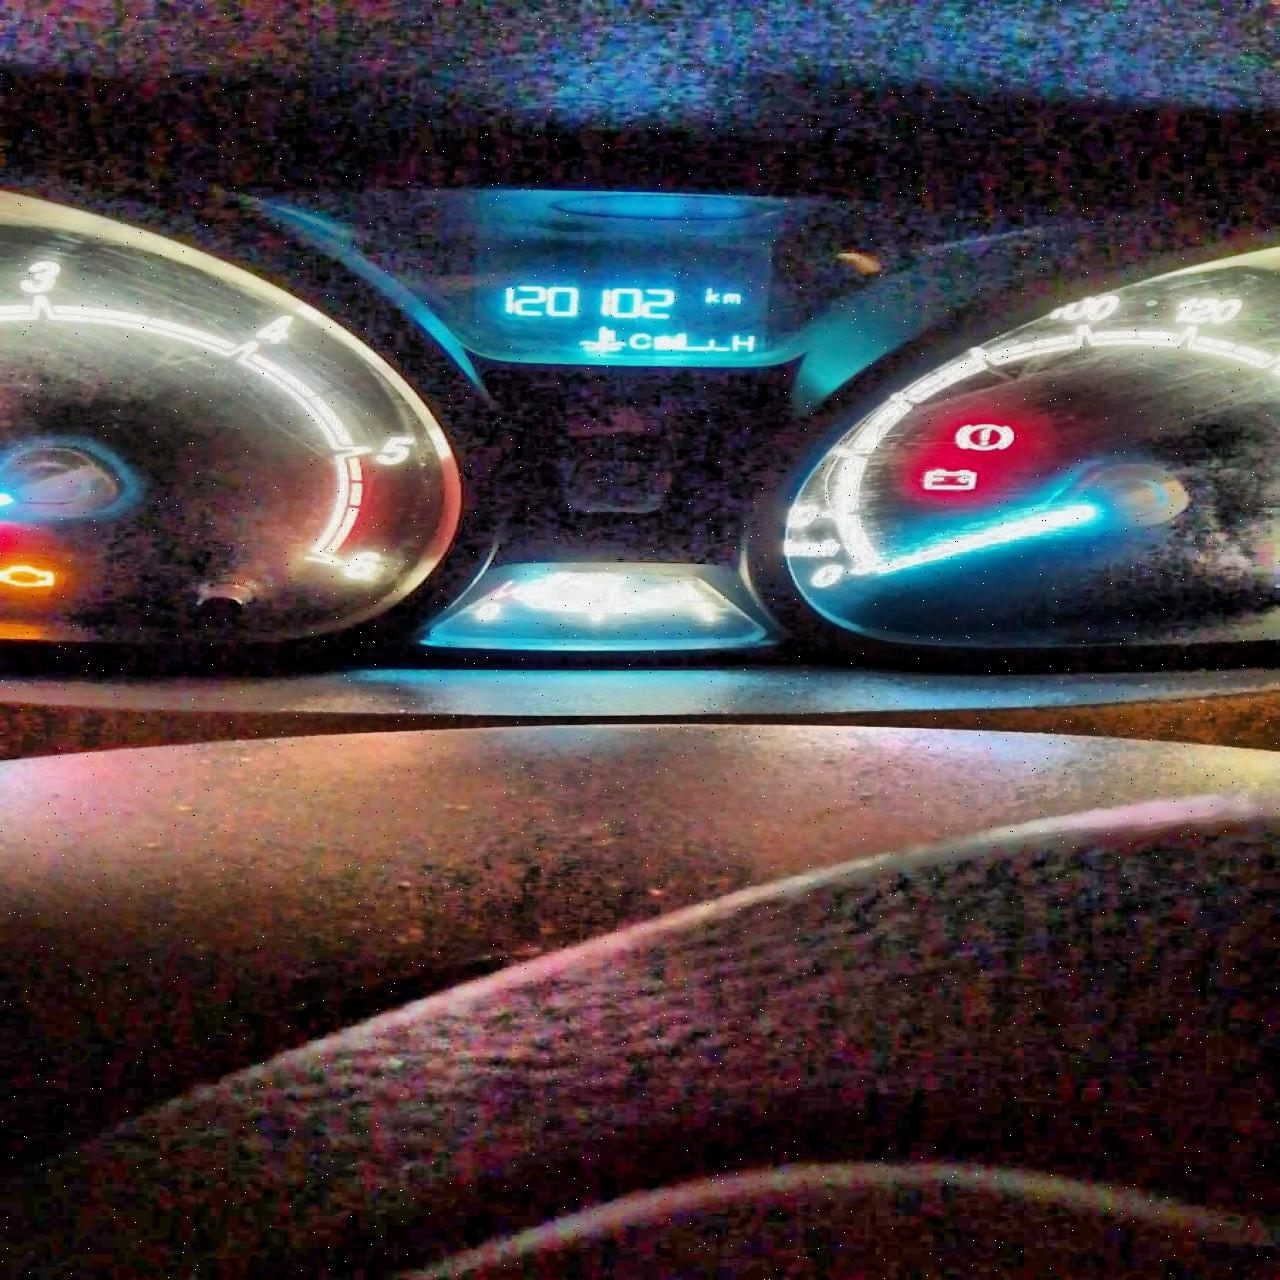0: (545, 286, 579, 316), (611, 286, 641, 319)
1: (502, 285, 513, 314), (600, 287, 608, 319)
2: (642, 287, 674, 319), (515, 282, 545, 315)
X: (730, 333, 755, 352), (627, 333, 652, 349), (704, 286, 720, 302), (721, 292, 740, 304)
odometer: (483, 263, 779, 365)
